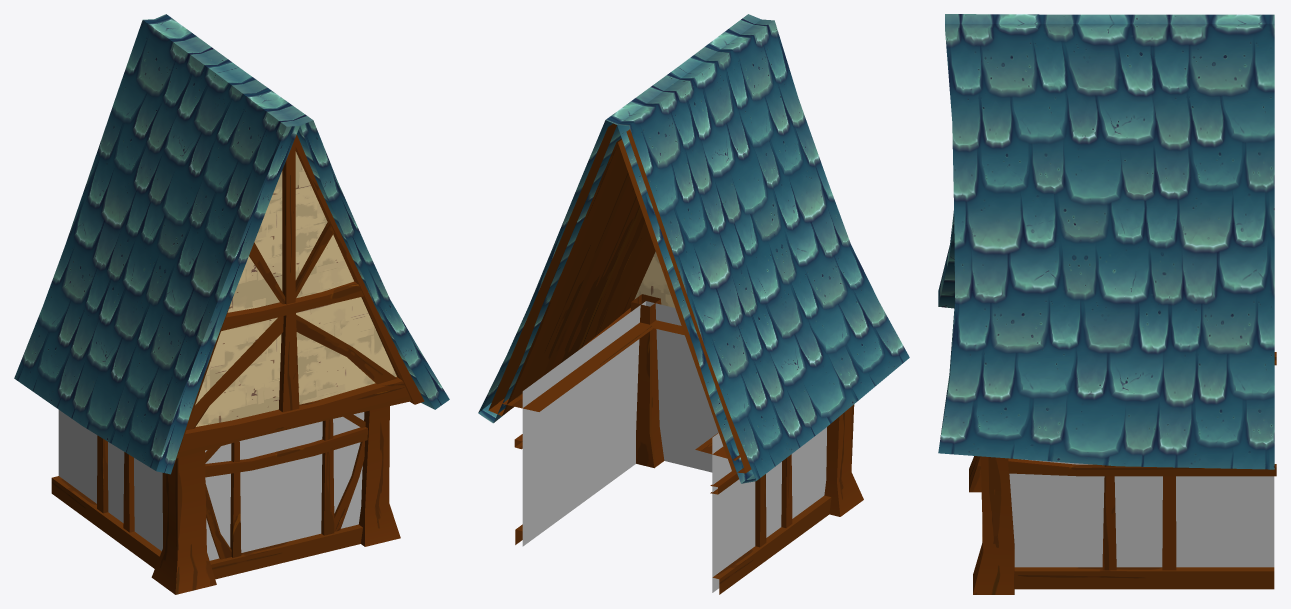
The model's file is SM_BLD_body_add_v03_01.fbx.
3 renders of one model, left to right at view 1: azimuth 30°, elevation 25°; view 2: azimuth 150°, elevation 25°; view 3: azimuth 270°, elevation 25°, orthographic. The views are drawn at different scales.
Visible parts, largest first — view 1: SM_BLD_body_add_v03_01; view 2: SM_BLD_body_add_v03_01; view 3: SM_BLD_body_add_v03_01.
Boxes of the visible parts, x1,y1,x2,y2 form: SM_BLD_body_add_v03_01: [14, 14, 449, 594]; SM_BLD_body_add_v03_01: [478, 14, 909, 594]; SM_BLD_body_add_v03_01: [938, 14, 1276, 594].
Size of the model in its own units: 734 by 1078 by 647.
